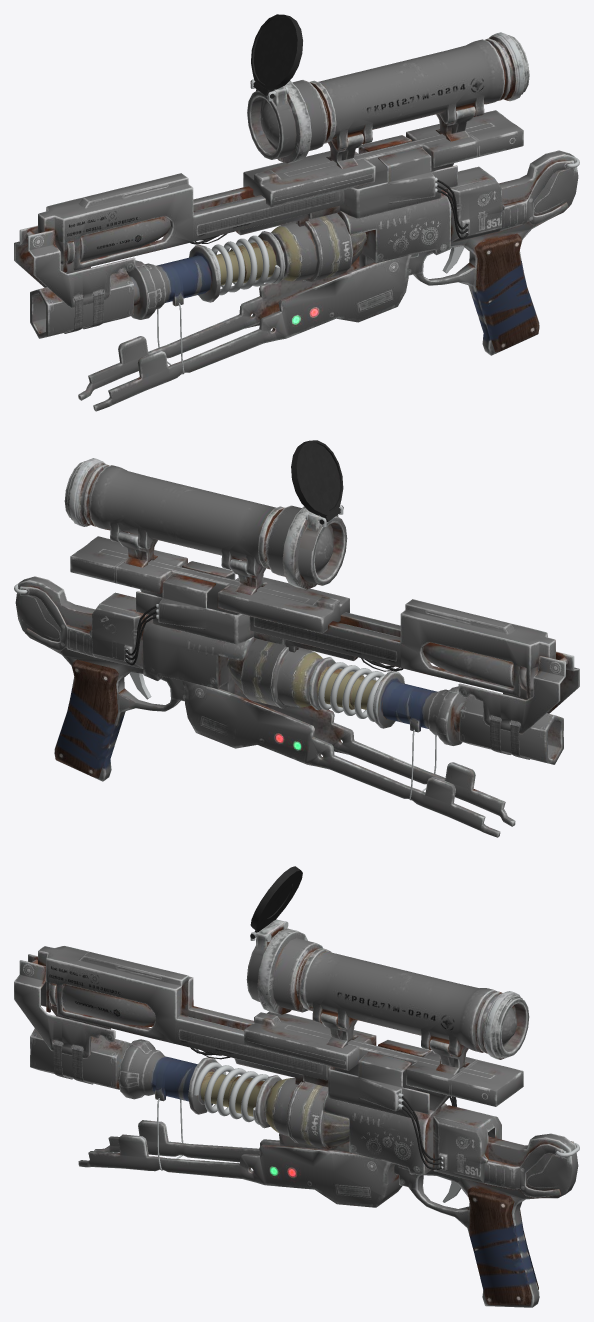
Rendered from weapon.glb.
3 views of the same model, one above another, from view 1: azimuth 30°, elevation 25°; view 2: azimuth 150°, elevation 25°; view 3: azimuth 330°, elevation 25° (orthographic).
Visible parts, largest first — view 1: MainPart_low_Main_0, Zoom_low_Detail_0, Part3_low_Detail_0, Stvol1_low_Main_0, Part2_low_Detail_0, Part4_low_Detail_0, Part5_low_Main_0, Part1_low_Detail_0, Cap_Unbake_0, Power_low_Detail_0, Helix_Unbake_0, Krep2_low_Detail_0 (+1 smaller); view 2: MainPart_low_Main_0, Zoom_low_Detail_0, Part3_low_Detail_0, Stvol1_low_Main_0, Part2_low_Detail_0, Part4_low_Detail_0, Part5_low_Main_0, Part1_low_Detail_0, Cap_Unbake_0, Power_low_Detail_0, Helix_Unbake_0, Krep2_low_Detail_0 (+1 smaller); view 3: MainPart_low_Main_0, Zoom_low_Detail_0, Stvol1_low_Main_0, Part3_low_Detail_0, Part2_low_Detail_0, Part5_low_Main_0, Part4_low_Detail_0, Part1_low_Detail_0, Power_low_Detail_0, Helix_Unbake_0, Cap_Unbake_0, Krep2_low_Detail_0 (+1 smaller).
Part boxes in pixels (left/top/right/bottom): MainPart_low_Main_0: left=243, top=110, right=578, bottom=355; Zoom_low_Detail_0: left=247, top=32, right=529, bottom=163; Part3_low_Detail_0: left=78, top=254, right=411, bottom=411; Stvol1_low_Main_0: left=30, top=213, right=366, bottom=338; Part2_low_Detail_0: left=38, top=173, right=344, bottom=272; Part4_low_Detail_0: left=236, top=135, right=457, bottom=235; Part5_low_Main_0: left=445, top=160, right=574, bottom=242; Part1_low_Detail_0: left=14, top=225, right=135, bottom=308; Cap_Unbake_0: left=250, top=14, right=302, bottom=98; Power_low_Detail_0: left=56, top=216, right=170, bottom=265; Helix_Unbake_0: left=207, top=235, right=280, bottom=295; Krep2_low_Detail_0: left=435, top=105, right=475, bottom=141; MainPart_low_Main_0: left=15, top=536, right=349, bottom=781; Zoom_low_Detail_0: left=64, top=458, right=347, bottom=589; Part3_low_Detail_0: left=182, top=680, right=515, bottom=837; Stvol1_low_Main_0: left=227, top=639, right=563, bottom=764; Part2_low_Detail_0: left=249, top=599, right=555, bottom=698; Part4_low_Detail_0: left=136, top=561, right=357, bottom=660; Part5_low_Main_0: left=20, top=586, right=148, bottom=668; Part1_low_Detail_0: left=458, top=651, right=579, bottom=734; Cap_Unbake_0: left=291, top=440, right=343, bottom=524; Power_low_Detail_0: left=423, top=642, right=537, bottom=691; Helix_Unbake_0: left=318, top=662, right=385, bottom=721; Krep2_low_Detail_0: left=118, top=531, right=157, bottom=567; MainPart_low_Main_0: left=244, top=1011, right=578, bottom=1307; Zoom_low_Detail_0: left=246, top=919, right=529, bottom=1059; Stvol1_low_Main_0: left=30, top=1028, right=349, bottom=1149; Part3_low_Detail_0: left=78, top=1120, right=402, bottom=1207; Part2_low_Detail_0: left=38, top=946, right=329, bottom=1080; Part5_low_Main_0: left=433, top=1105, right=573, bottom=1197; Part4_low_Detail_0: left=234, top=1040, right=430, bottom=1118; Part1_low_Detail_0: left=14, top=954, right=115, bottom=1058; Power_low_Detail_0: left=48, top=983, right=155, bottom=1027; Helix_Unbake_0: left=194, top=1062, right=268, bottom=1124; Cap_Unbake_0: left=250, top=866, right=302, bottom=938; Krep2_low_Detail_0: left=429, top=1038, right=469, bottom=1074.
Size of the model in its own units: 254 by 169 by 34.22.
3 materials, 3 textured.
